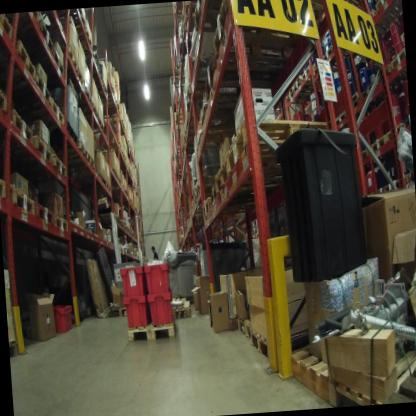pallet: (225, 108, 334, 179), (213, 1, 299, 69), (328, 348, 416, 406), (332, 107, 407, 146), (202, 54, 263, 101), (251, 326, 311, 364), (292, 347, 331, 403), (127, 315, 177, 347), (34, 133, 57, 172), (13, 105, 33, 149), (211, 160, 233, 196), (13, 187, 34, 222), (17, 41, 34, 84), (34, 201, 56, 232), (375, 0, 400, 27), (0, 13, 16, 48), (238, 314, 255, 345), (36, 76, 51, 109), (391, 45, 407, 74), (171, 301, 192, 321), (104, 307, 127, 324), (51, 99, 64, 129), (40, 23, 53, 53), (53, 52, 66, 79), (0, 79, 8, 120), (371, 134, 386, 153), (56, 213, 68, 235), (349, 92, 362, 109), (76, 142, 88, 160), (56, 158, 66, 179), (67, 127, 77, 148), (0, 173, 7, 202), (358, 149, 370, 161), (171, 297, 187, 305), (88, 157, 95, 169)
small_load_carrier: (147, 289, 178, 329), (118, 262, 149, 300), (121, 292, 150, 330), (144, 258, 175, 291), (49, 302, 77, 334)
